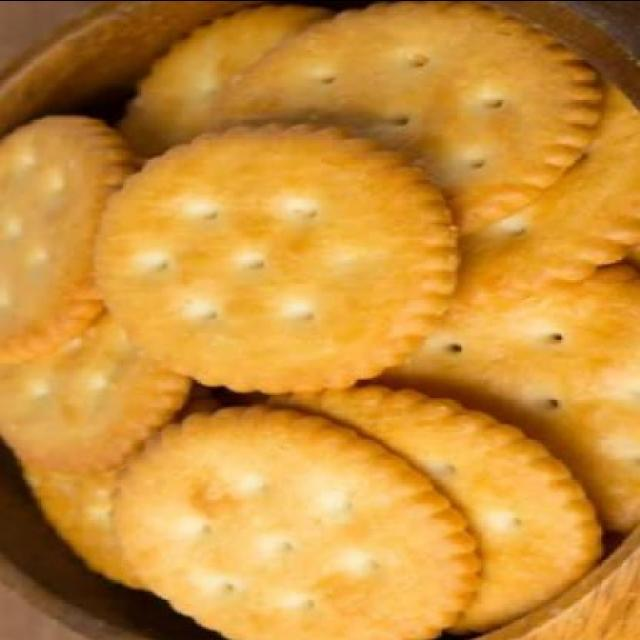Ritz cracker packaged: (5, 4, 627, 638)
